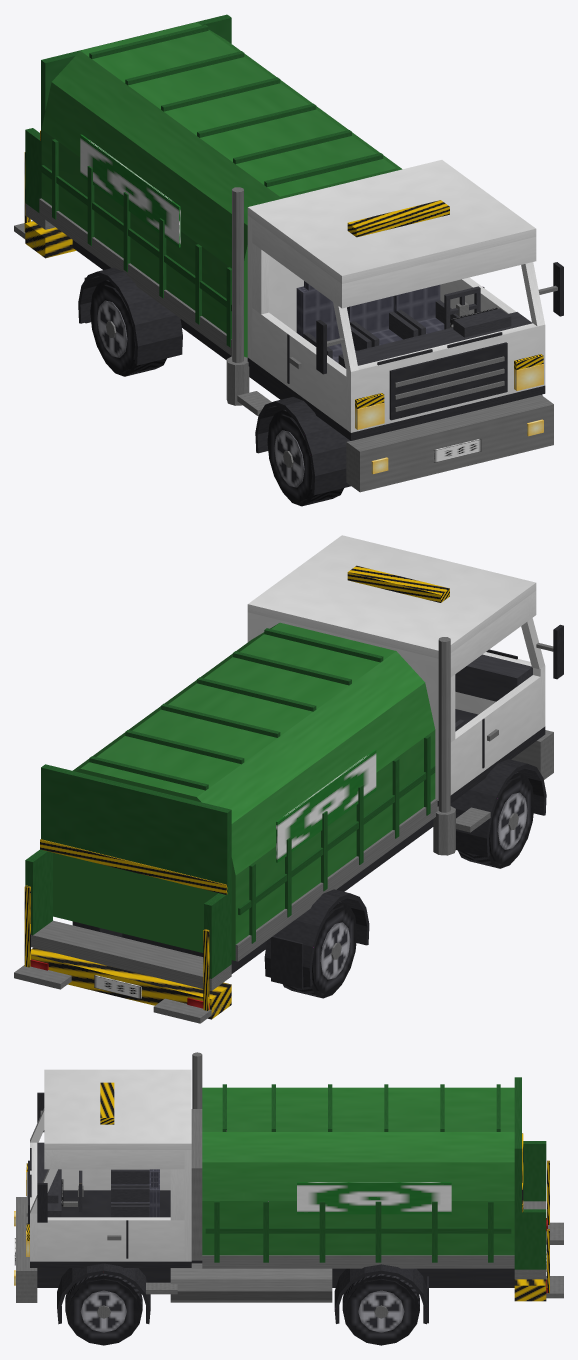
Rendered from garbage_truck.obj.
The picture shows the model from 3 angles, top to bottom: view 1: azimuth 30°, elevation 25°; view 2: azimuth 150°, elevation 25°; view 3: azimuth 270°, elevation 25°; orthographic projection. The views are drawn at different scales.
Visible parts, largest first — view 1: chassis, wheel_rear_right, wheel_front_right, seat_passenger_front, seat_passenger_crew, seat_driver, tailgate, steering_wheel; view 2: chassis, tailgate, wheel_front_right, wheel_rear_right; view 3: chassis, wheel_rear_left, wheel_front_left, tailgate, seat_driver, seat_passenger_crew, seat_passenger_front.
Part boxes in pixels (<box>): chassis: <box>14,22,563,495</box>; wheel_rear_right: <box>90,280,166,376</box>; wheel_front_right: <box>267,409,343,506</box>; seat_passenger_front: <box>296,281,371,363</box>; seat_passenger_crew: <box>347,296,418,346</box>; seat_driver: <box>393,284,459,335</box>; tailgate: <box>40,14,231,141</box>; steering_wheel: <box>444,286,480,329</box>; chassis: <box>14,535,563,1023</box>; tailgate: <box>40,764,231,894</box>; wheel_front_right: <box>458,772,534,868</box>; wheel_rear_right: <box>283,901,357,998</box>; chassis: <box>14,1052,563,1324</box>; wheel_rear_left: <box>342,1273,419,1345</box>; wheel_front_left: <box>65,1274,142,1345</box>; tailgate: <box>514,1077,523,1212</box>; seat_driver: <box>111,1169,159,1217</box>; seat_passenger_crew: <box>111,1169,159,1205</box>; seat_passenger_front: <box>111,1169,149,1187</box>.
Bounding box in the file's own units: 3.1 × 3.3 × 7.83.
1 material, 1 textured.
